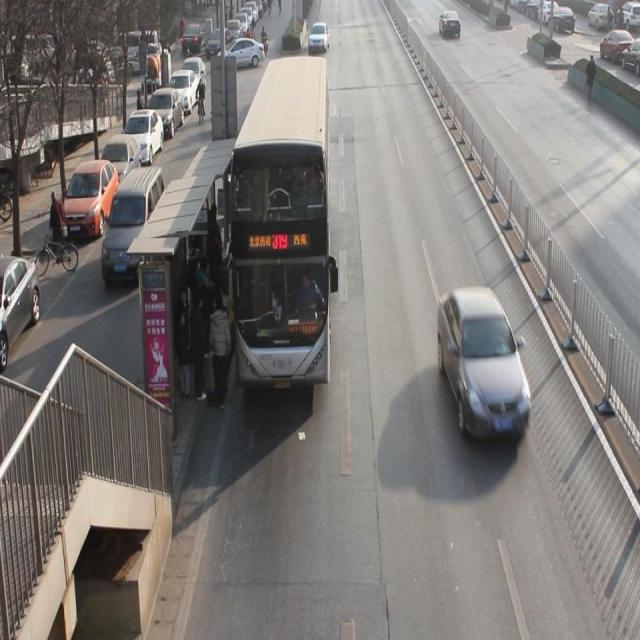car: (439, 292, 528, 439), (440, 13, 463, 42), (310, 22, 330, 54)
van: (232, 59, 331, 389)
